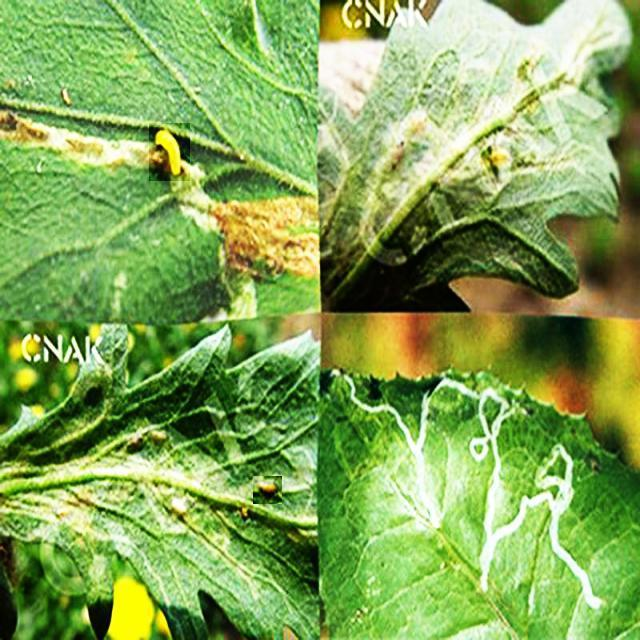whorl-maggot: (149, 124, 190, 182), (253, 476, 282, 504)
